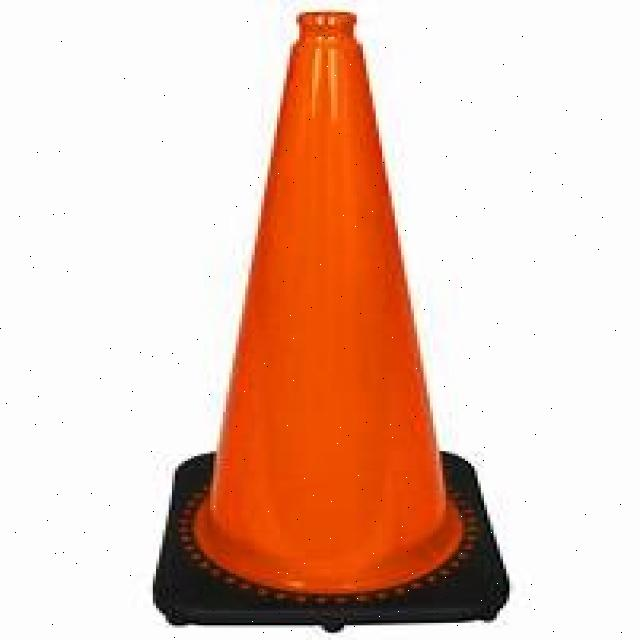traffic cone: (134, 5, 524, 639)
